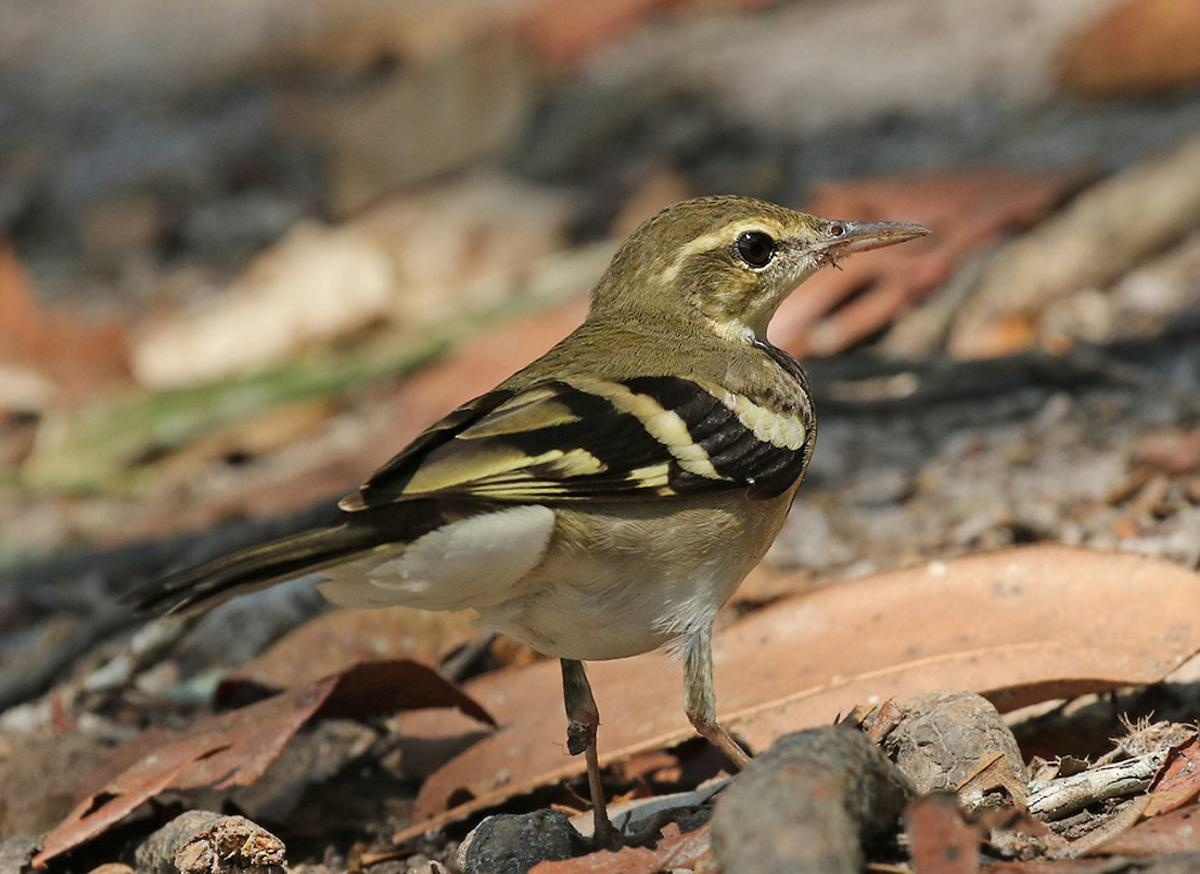wagtail: (355, 191, 921, 657)
